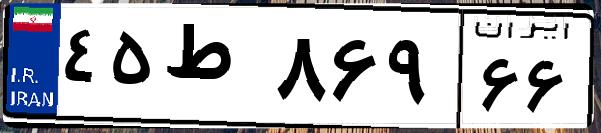4: (57, 26, 110, 100)
5: (110, 28, 158, 98)
6: (330, 28, 385, 110), (475, 38, 525, 113), (525, 38, 570, 115)
8: (270, 28, 330, 110)
9: (385, 28, 445, 110)
ط: (158, 20, 270, 120)
